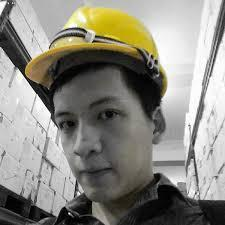helmet: (25, 6, 168, 107)
